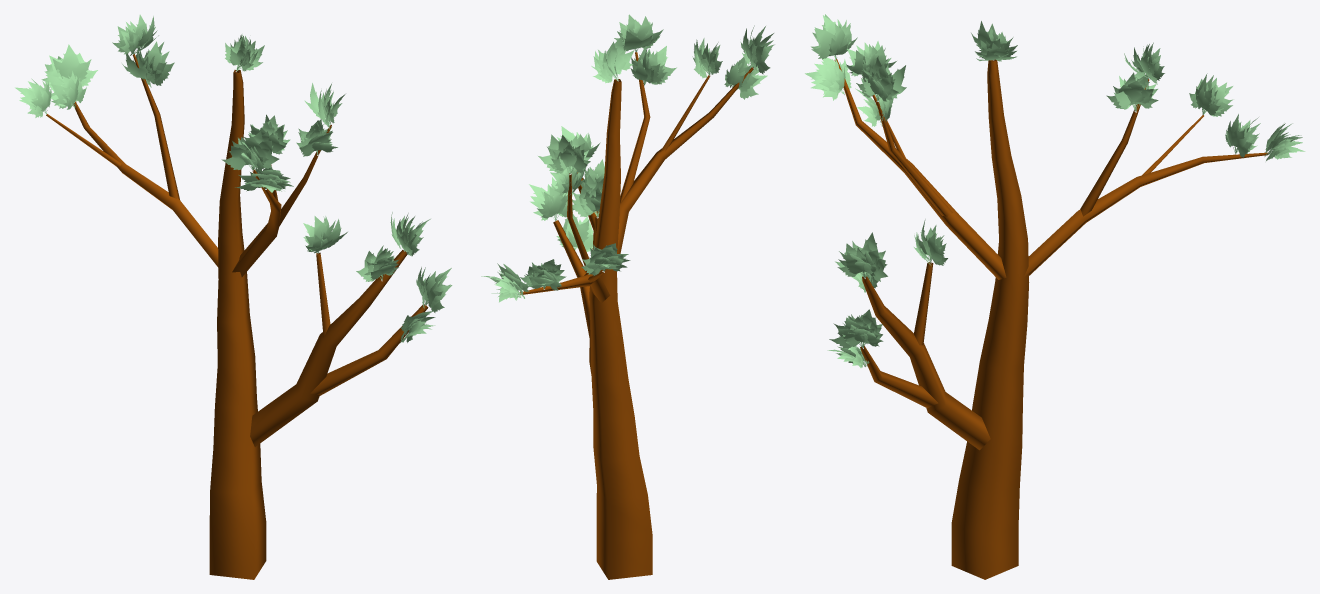
Rendered from FinalTree19.fbx.
3 renders of one model, left to right at view 1: azimuth 30°, elevation 25°; view 2: azimuth 150°, elevation 25°; view 3: azimuth 270°, elevation 25°, orthographic. The views are drawn at different scales.
Visible parts, largest first — view 1: Árbol, Hojas|palmate.003|Dupli|23; view 2: Árbol; view 3: Árbol.
Boxes of the visible parts, x1,y1,x2,y2 form: Árbol: (46,54,428,579); Hojas|palmate.003|Dupli|23: (52,44,91,81); Árbol: (520,52,753,579); Árbol: (834,59,1268,579).
Size of the model in its own units: 230 by 442 by 366.
